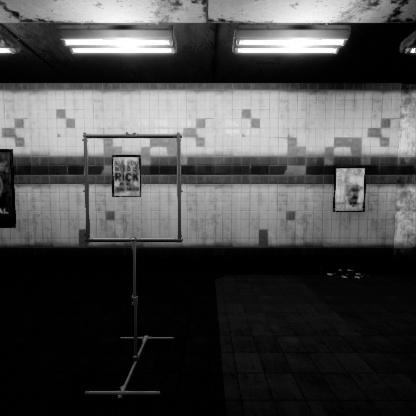gate: (83, 172, 190, 282)
